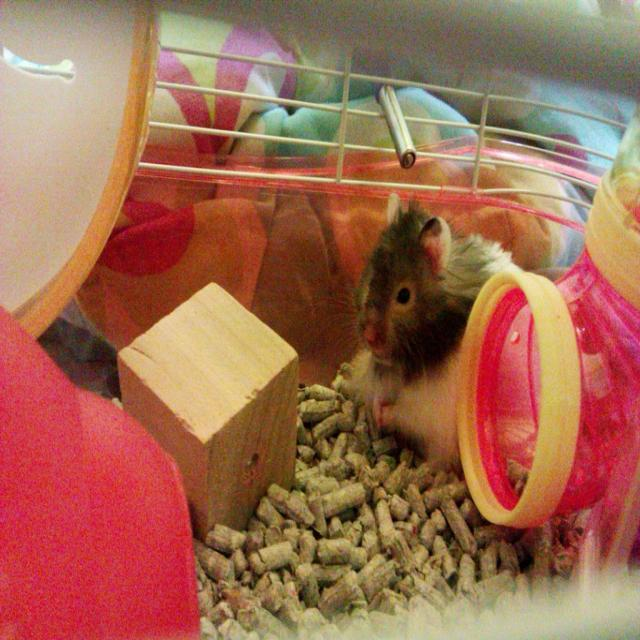rat: (357, 190, 515, 473)
